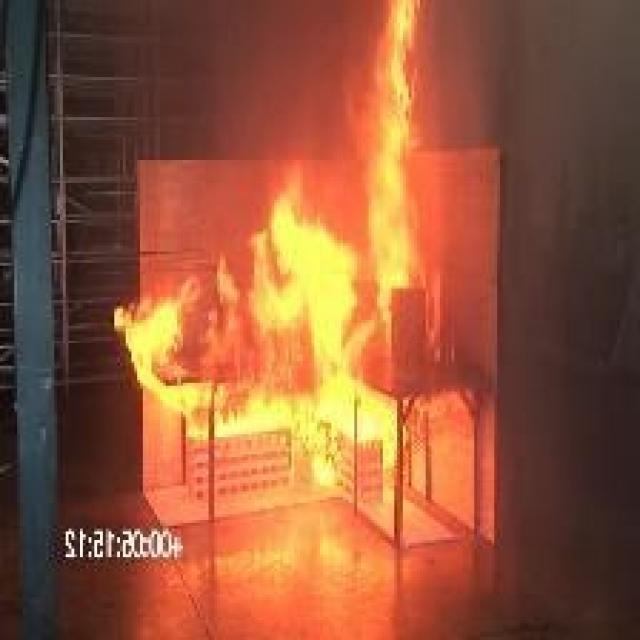fire: (53, 3, 553, 540)
